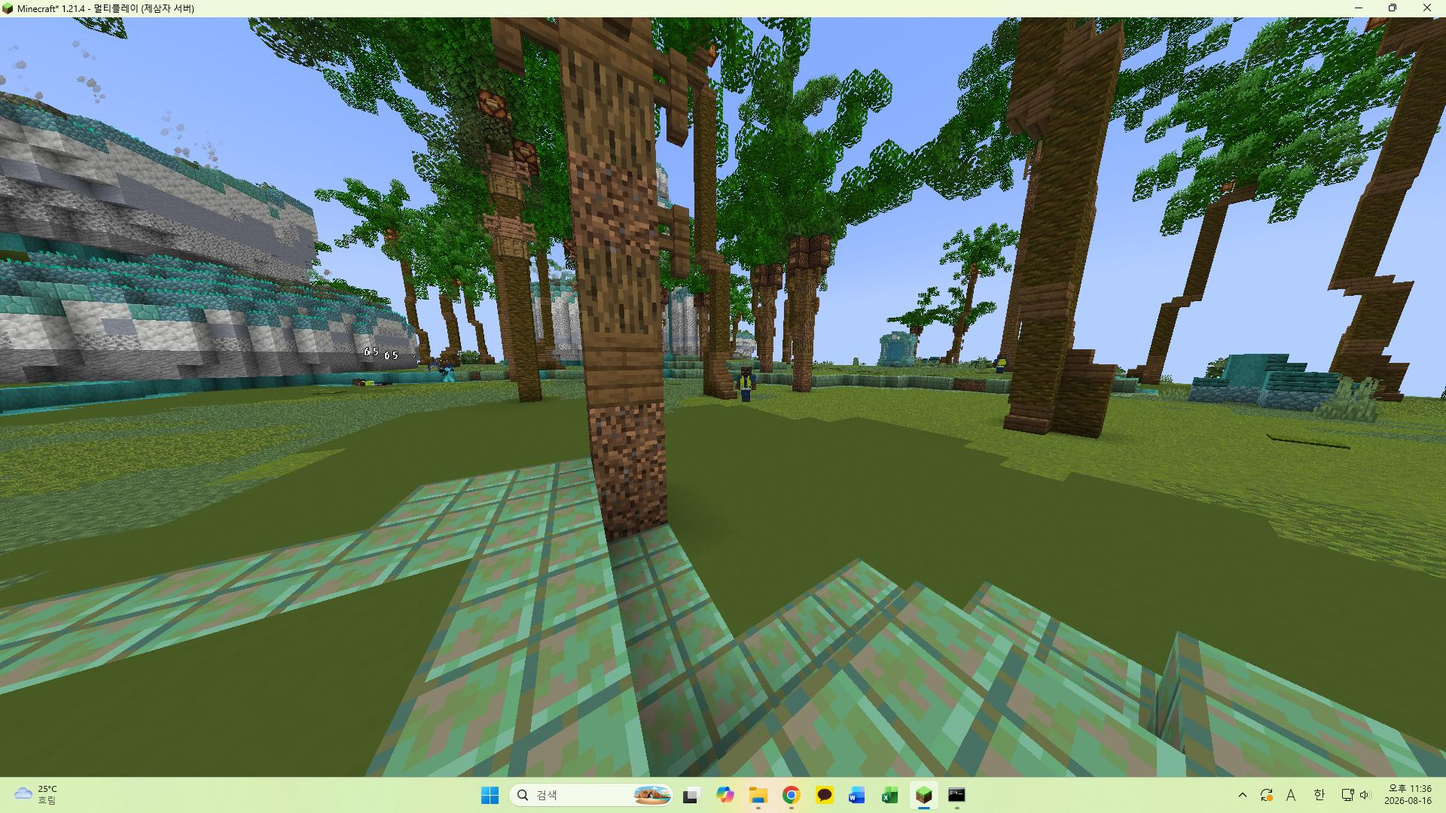Guardian: (737, 362, 755, 402)
